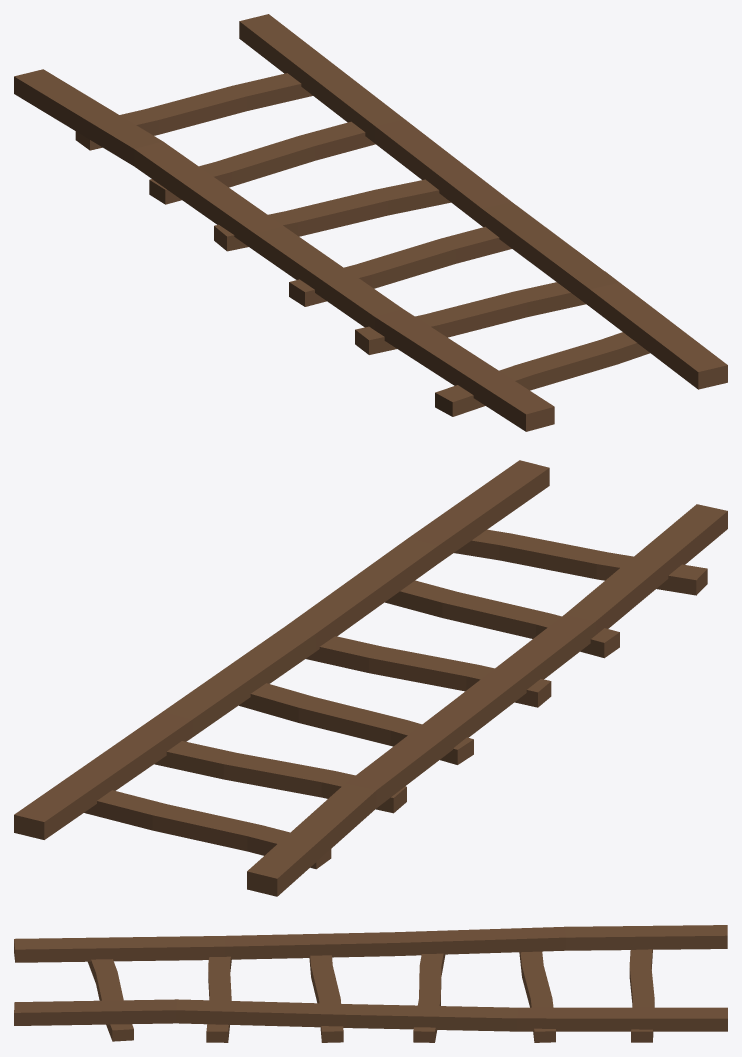
Rendered from Ladder_01.fbx.
The picture shows the model from 3 angles, top to bottom: view 1: azimuth 30°, elevation 25°; view 2: azimuth 150°, elevation 25°; view 3: azimuth 270°, elevation 25°; orthographic projection. The views are drawn at different scales.
Visible parts, largest first — view 1: Ladder_1.0_LOW.002; view 2: Ladder_1.0_LOW.002; view 3: Ladder_1.0_LOW.002.
Boxes of the visible parts, <box> form: Ladder_1.0_LOW.002: <box>14,14,727,431</box>; Ladder_1.0_LOW.002: <box>14,460,727,896</box>; Ladder_1.0_LOW.002: <box>14,925,727,1042</box>.
Size of the model in its own units: 63.19 by 7.83 by 200.
